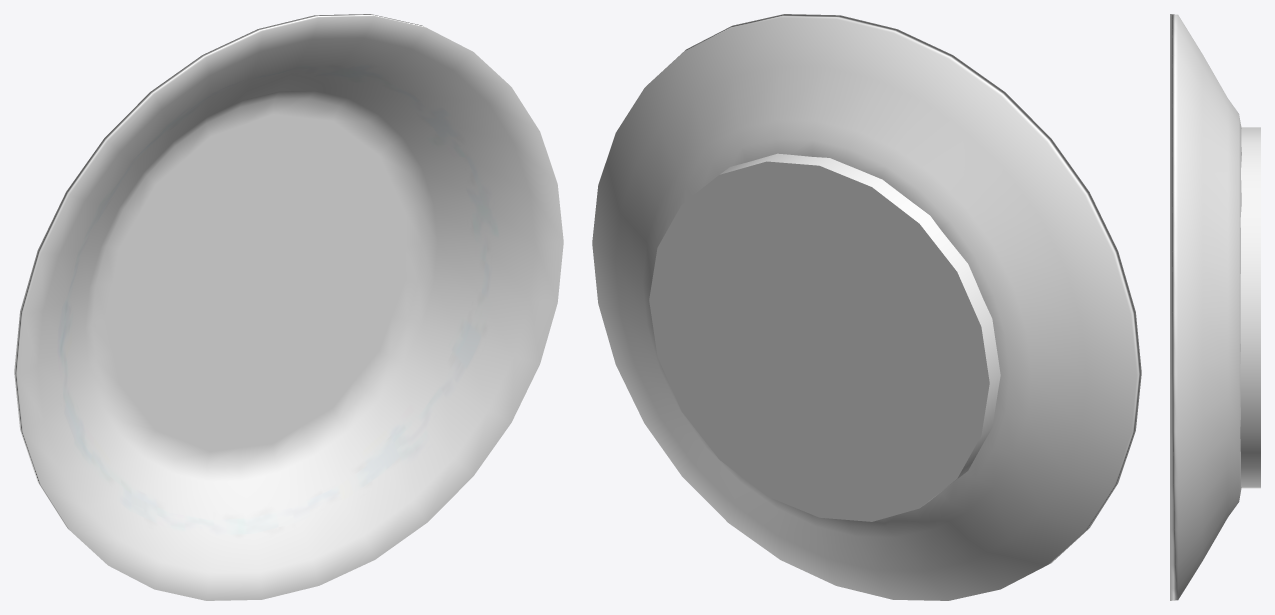
3 renders of one model, left to right at view 1: azimuth 30°, elevation 25°; view 2: azimuth 150°, elevation 25°; view 3: azimuth 270°, elevation 25°, orthographic. The views are drawn at different scales.
Bounding box in the file's own units: 1 × 0.9946 × 0.1542.
Materials: 1 (1 with a texture image).
